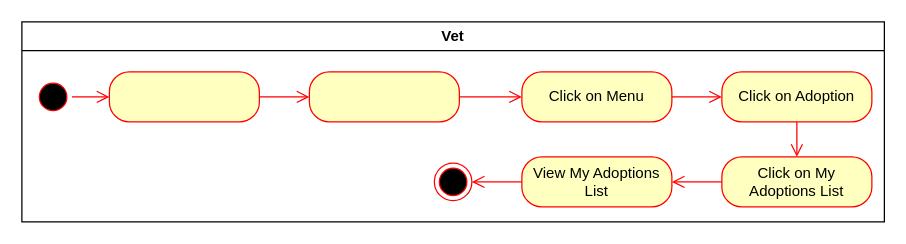
The diagram is 906 pixels wide and 244 high, and some of its shapes have lost their labels. Here are the shapes that lost their labels. From the top down, the centre of each, then its label:
At (183,96): "Login".
At (383,96): "View Dashboard".
